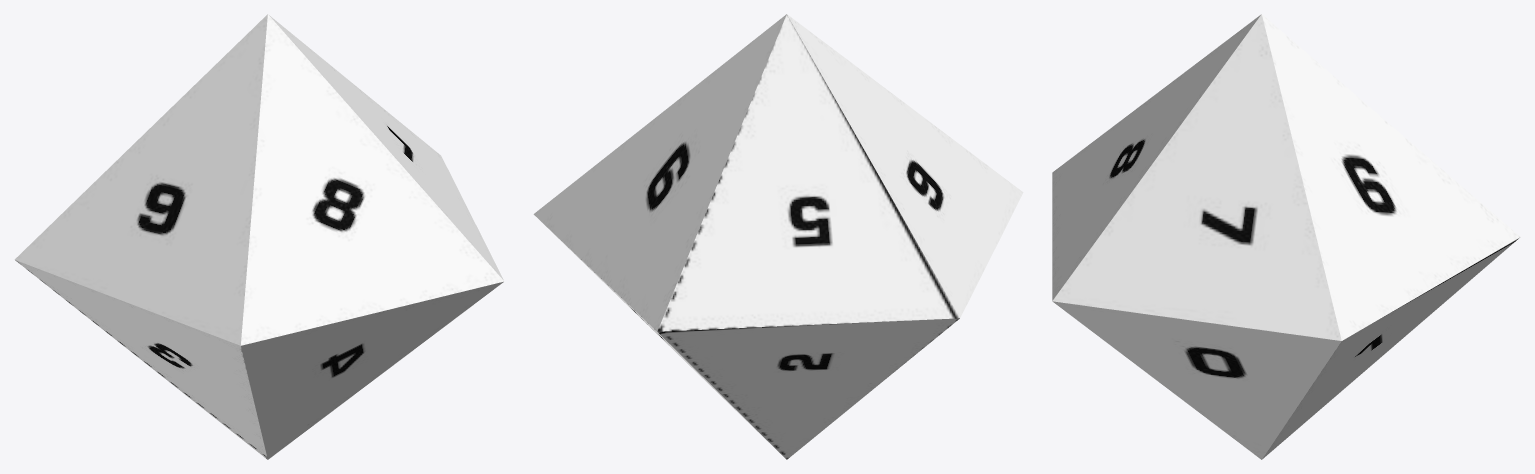
The picture shows the model from 3 angles, left to right: view 1: azimuth 30°, elevation 25°; view 2: azimuth 150°, elevation 25°; view 3: azimuth 270°, elevation 25°; orthographic projection.
Parts seen in each view (by area): view 1: Cone; view 2: Cone; view 3: Cone.
Boxes of the visible parts, x1=… form: Cone: x1=14, y1=14, x2=504, y2=459; Cone: x1=533, y1=14, x2=1023, y2=459; Cone: x1=1052, y1=14, x2=1520, y2=459.
Bounding box in the file's own units: 105 × 105 × 100.
